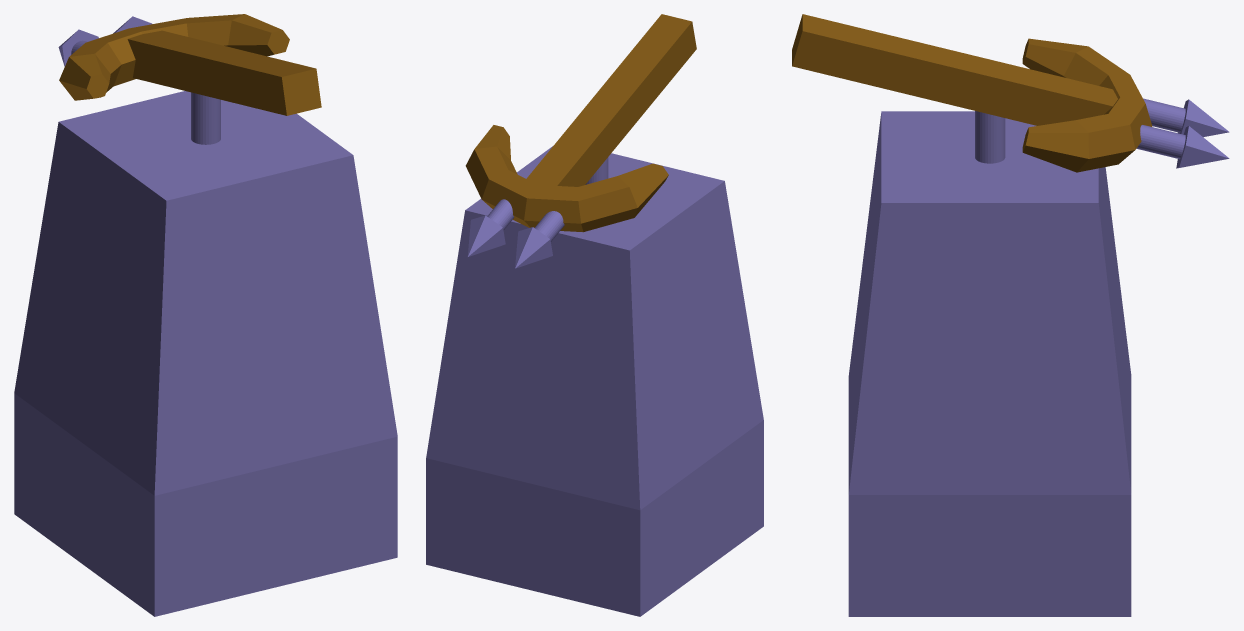
Rendered from DoubleСrossbowTower.fbx.
3 renders of one model, left to right at view 1: azimuth 30°, elevation 25°; view 2: azimuth 150°, elevation 25°; view 3: azimuth 270°, elevation 25°, orthographic. The views are drawn at different scales.
Visible parts, largest first — view 1: Cylinder, handle; view 2: Cylinder, handle; view 3: Cylinder, handle.
Part boxes in pixels (x1,y1,x2,y2): Cylinder: (14, 91, 397, 616); handle: (58, 14, 321, 115); Cylinder: (426, 146, 763, 616); handle: (465, 14, 696, 268); Cylinder: (848, 111, 1131, 616); handle: (792, 14, 1229, 172).
Bounding box in the file's own units: 280 × 585 × 434.
